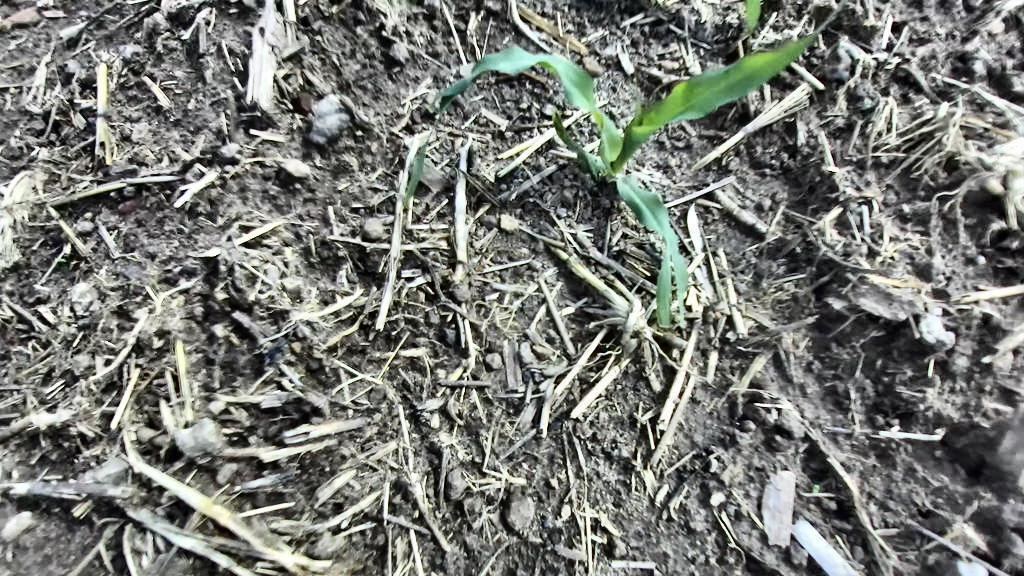BroWeed: (860, 96, 877, 110), (812, 484, 820, 493), (57, 258, 67, 263)
